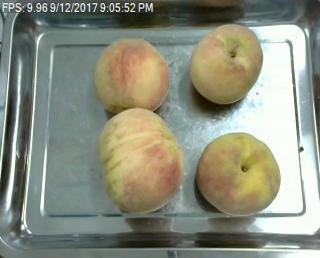Peach: (98, 107, 183, 214), (197, 133, 279, 213), (190, 24, 263, 105), (96, 38, 171, 113)
